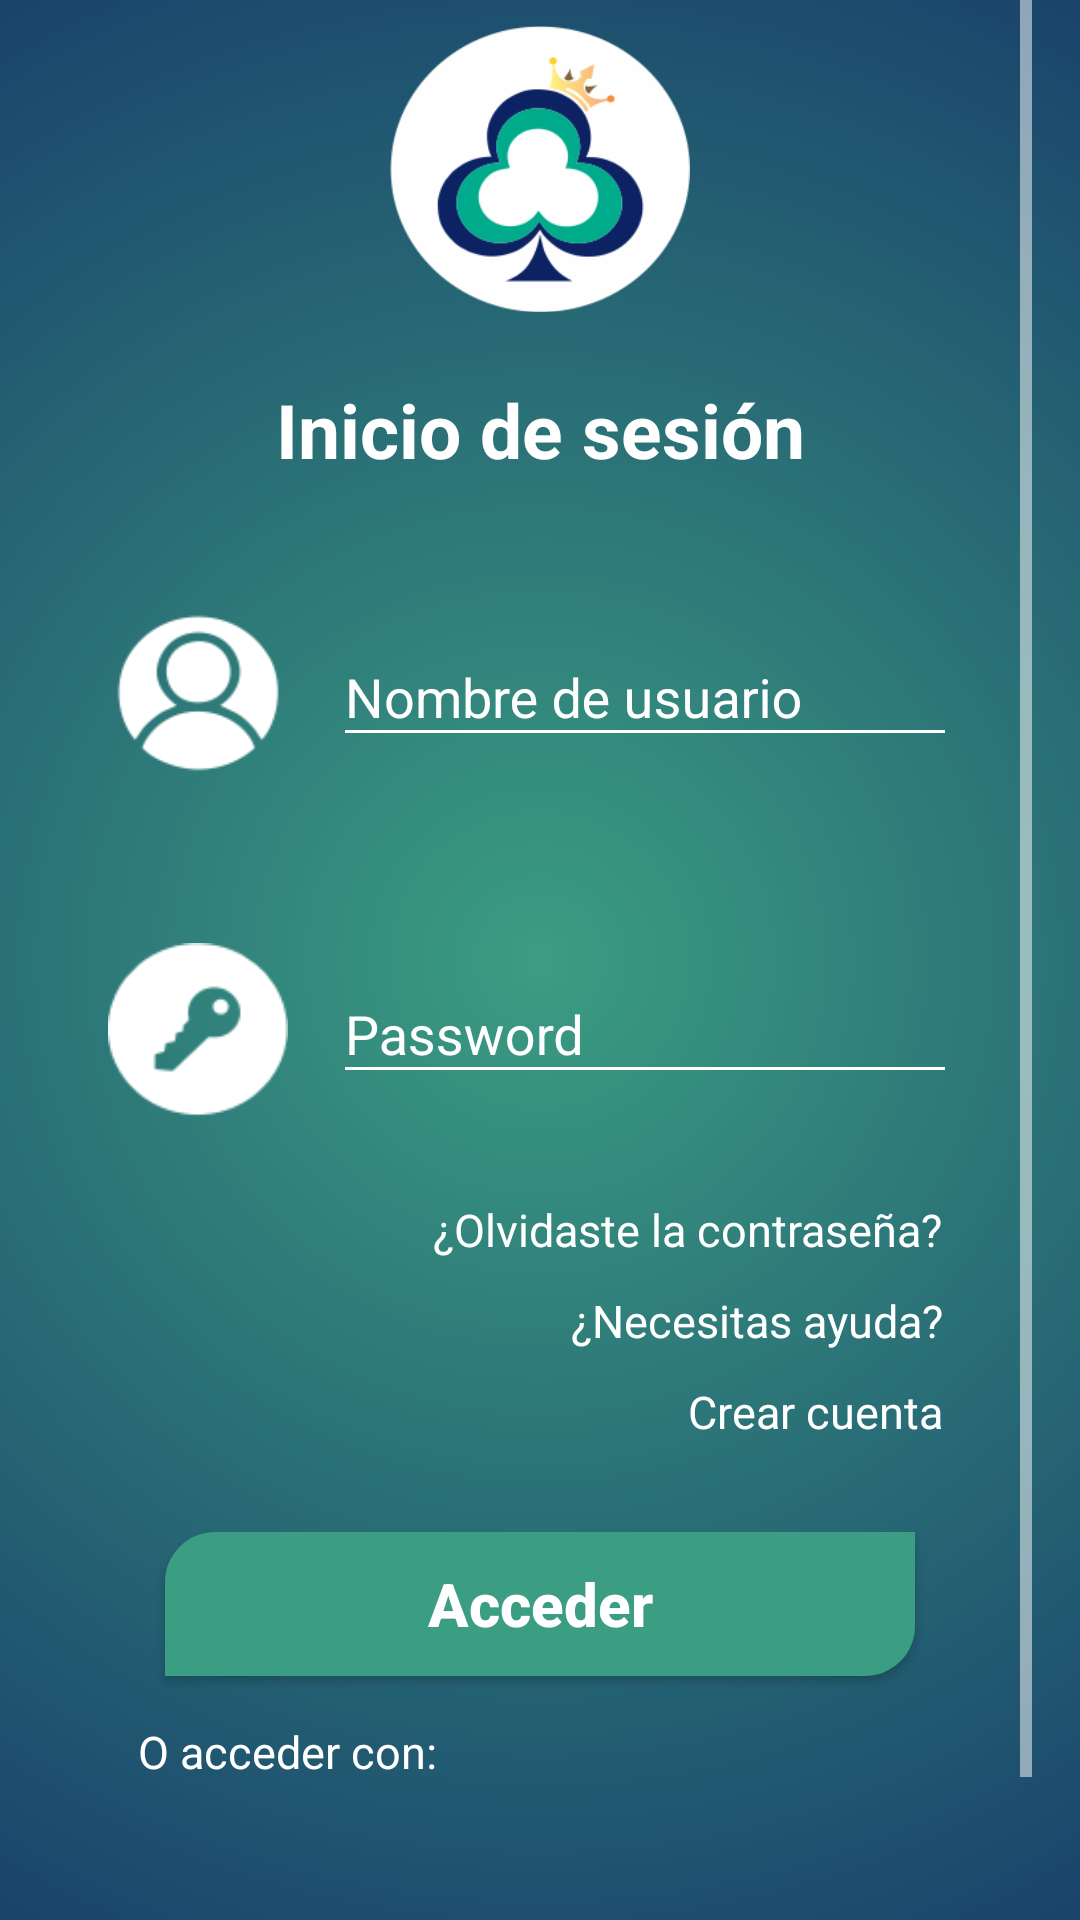

Named icons in this screenshot (1080 × 1920) and their bounding boxes, detection(x1, y1, x2, y2):
icopass: detection(108, 943, 288, 1115)
icouser: detection(117, 615, 279, 771)
trebol: detection(390, 26, 690, 312)
